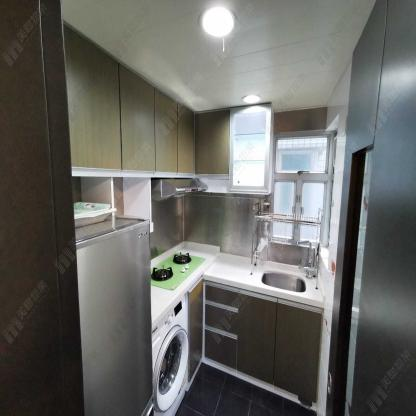Cupboard: (62, 19, 272, 195), (188, 276, 324, 413)
Exhaust Hood: (149, 178, 208, 201)
Faucet: (295, 238, 315, 281)
Fridge: (73, 212, 153, 416)
Sink: (257, 268, 307, 293)
Stove: (150, 251, 206, 290)
Washing Machine: (151, 290, 188, 416)
